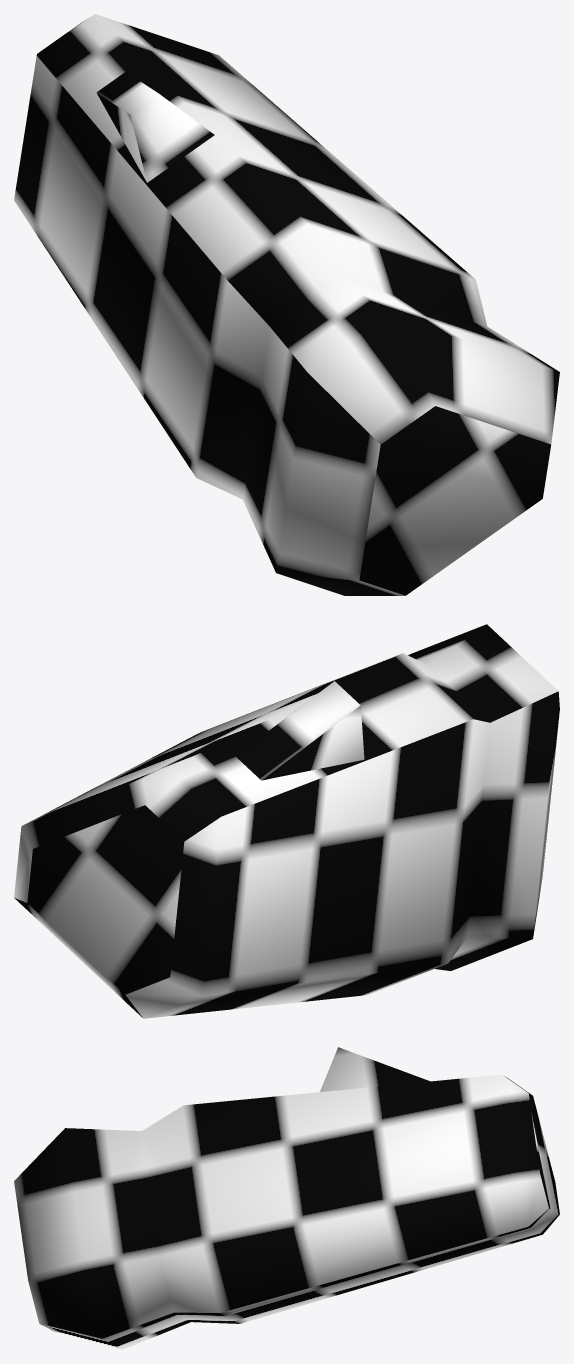
Rendered from initqu19.dae.
3 renders of one model, top to bottom at view 1: azimuth 30°, elevation 25°; view 2: azimuth 150°, elevation 25°; view 3: azimuth 270°, elevation 25°, orthographic. The views are drawn at different scales.
Visible parts, largest first — view 1: item; view 2: item; view 3: item.
Part boxes in pixels (<box>): item: <box>14,14,559,595</box>; item: <box>14,624,559,1018</box>; item: <box>14,1047,559,1349</box>.
Size of the model in its own units: 0.6869 by 1.7 by 0.9953.
Materials: 1 (1 with a texture image).
